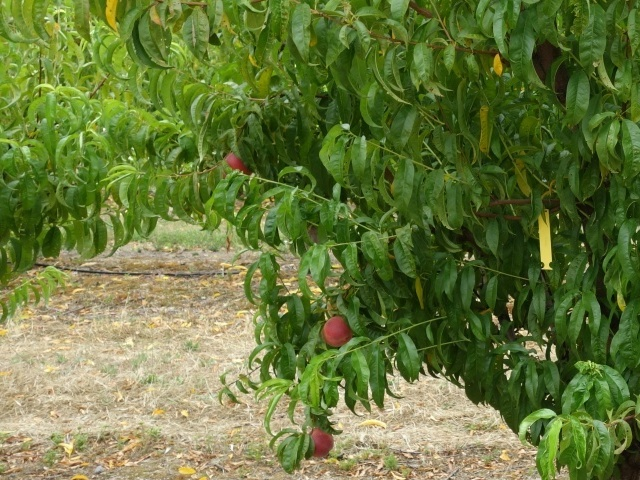peach: (317, 314, 358, 351), (216, 149, 255, 183), (303, 424, 336, 460)
